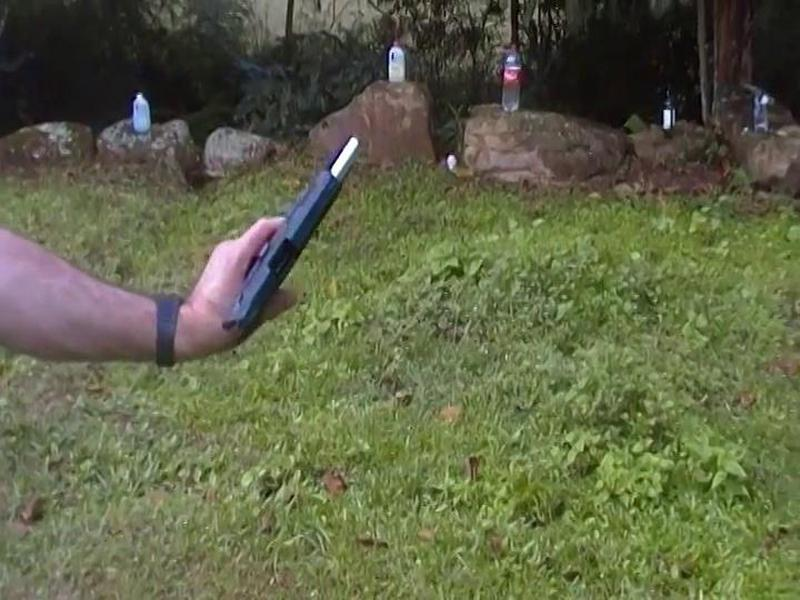Pistola: (209, 121, 374, 337)
